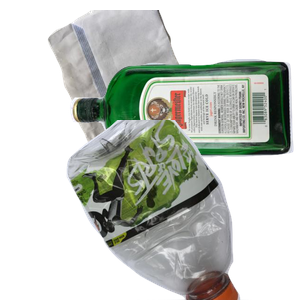glass: (67, 56, 300, 206)
paper: (45, 10, 251, 190)
plastic: (64, 120, 300, 300)
trash: (99, 155, 268, 300)
